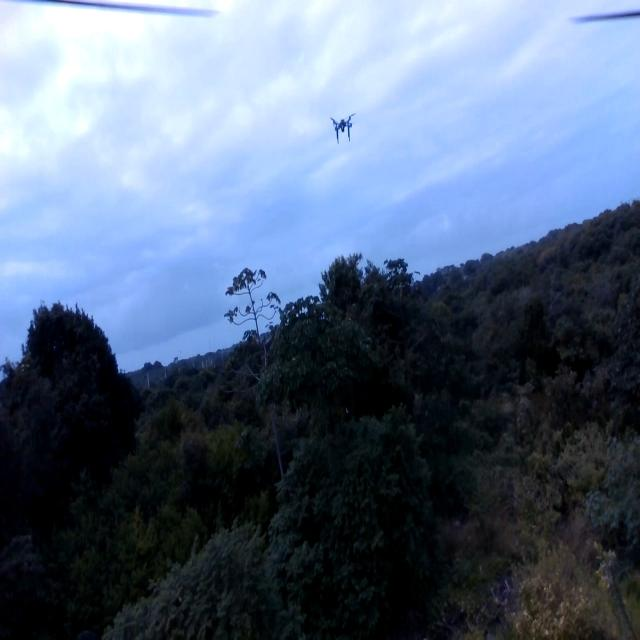-uav-: (322, 98, 362, 148)
